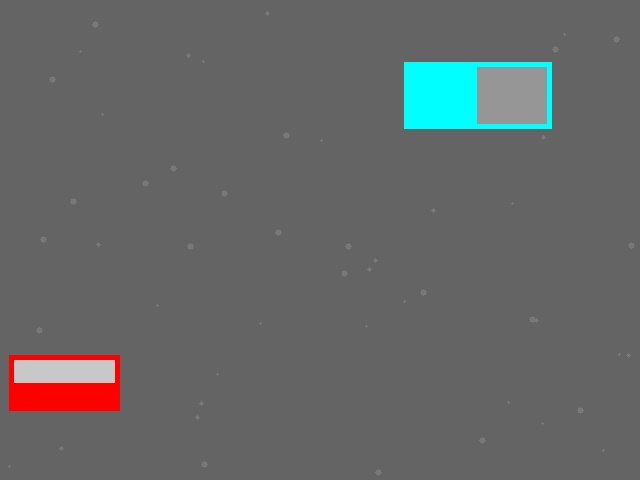car: (9, 355, 119, 410)
truck: (404, 62, 551, 128)
